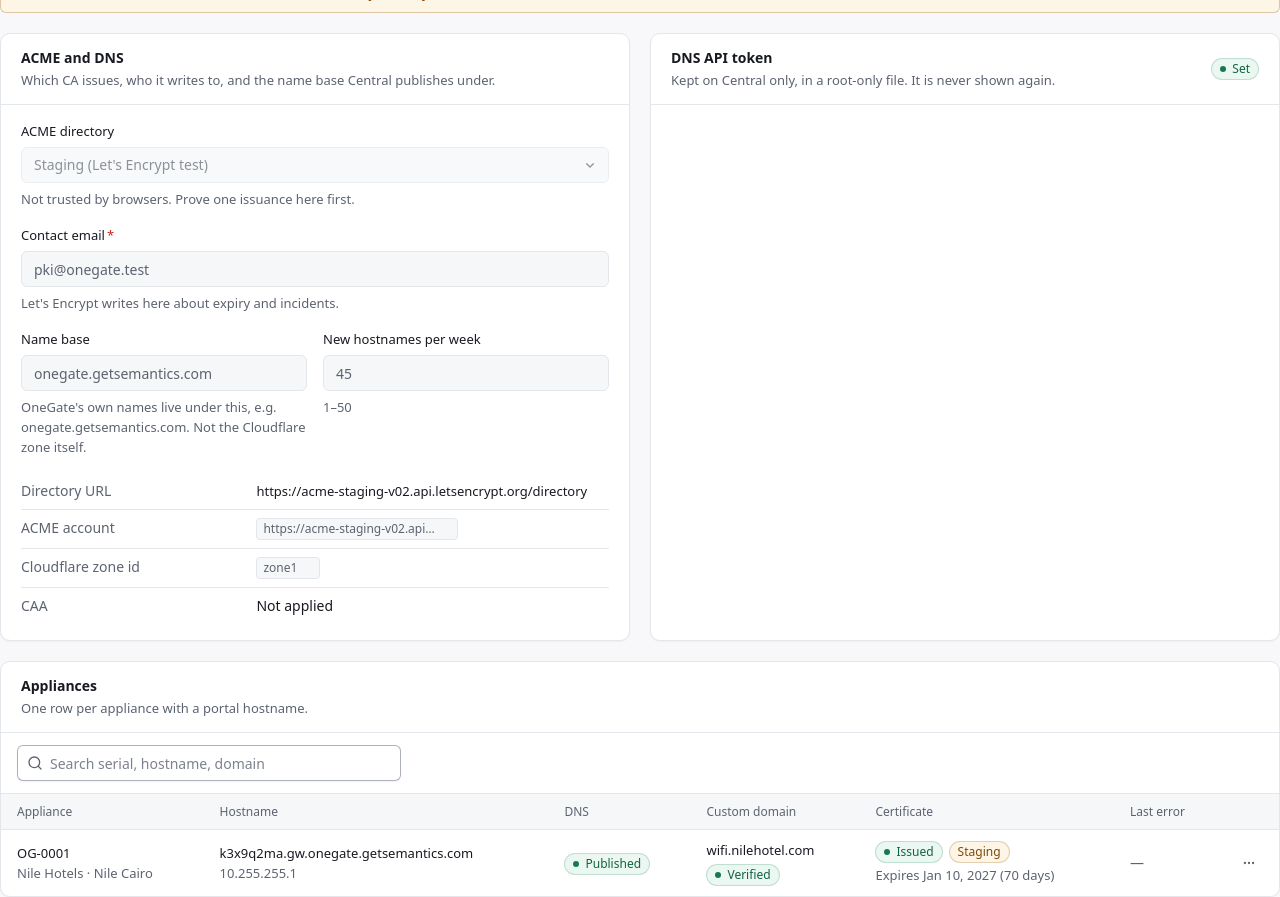
Scenario: Portal certificates › shows support staff the page without any control that writes
(page scrolled)
Click the row that starts with "OG-0001" at (640,863), box [1, 830, 1279, 896]
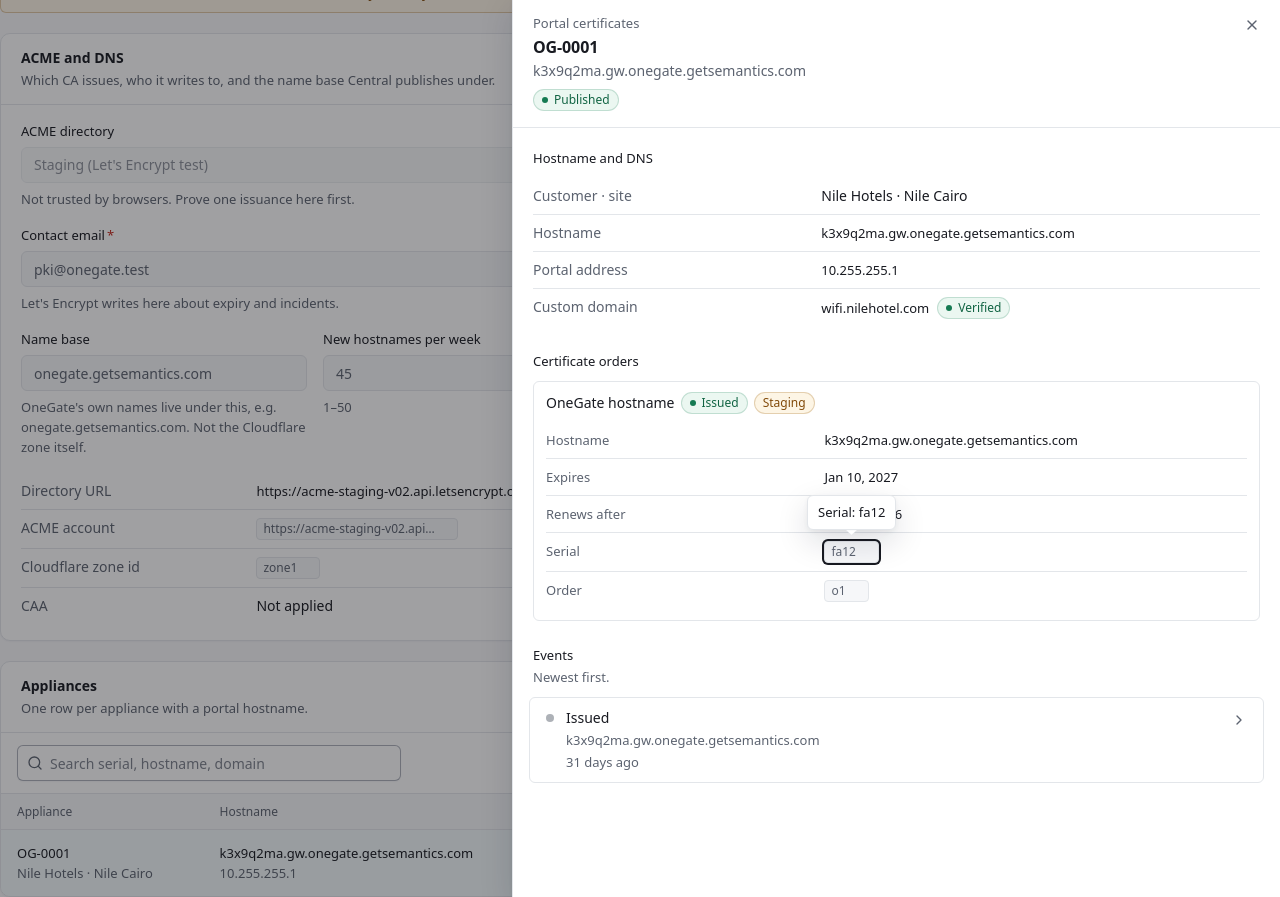
expect the list named "Portal certificate events" shows "Issued": met, box [530, 698, 1263, 782]
